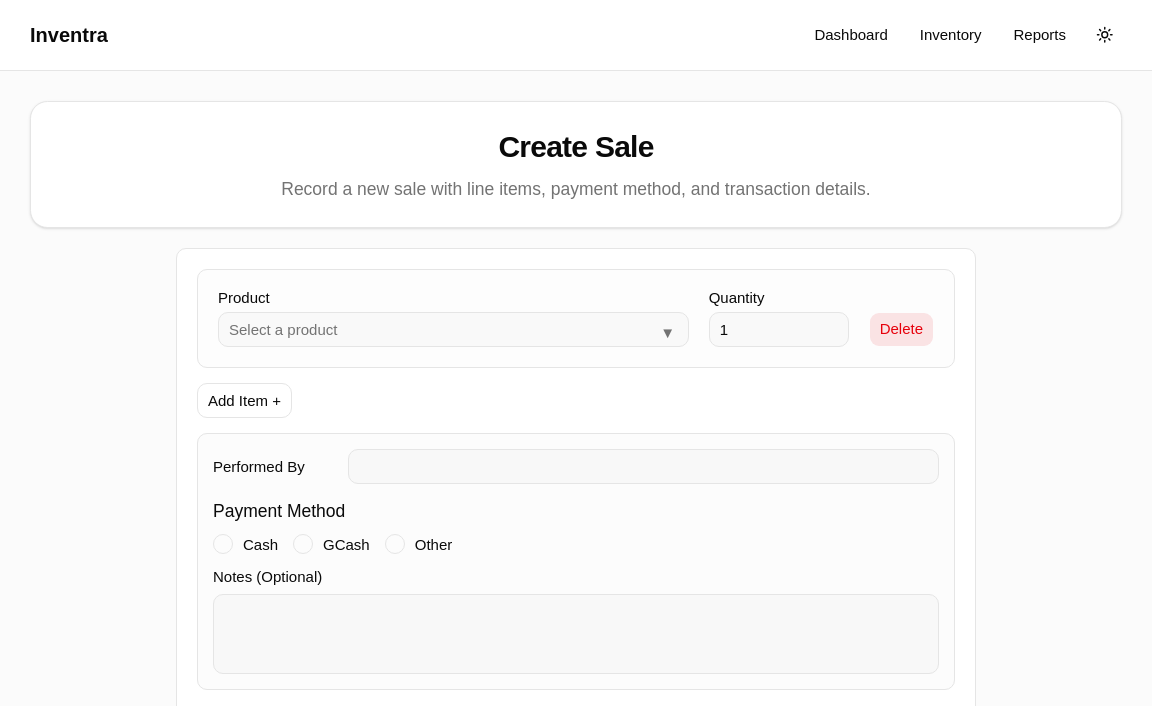
Test: Sales Create Page Tests › shows validation errors when required fields are missing
Clear the number field labelled "Quantity" at coordinates (779, 330), box [709,312,849,348]
(page scrolled)
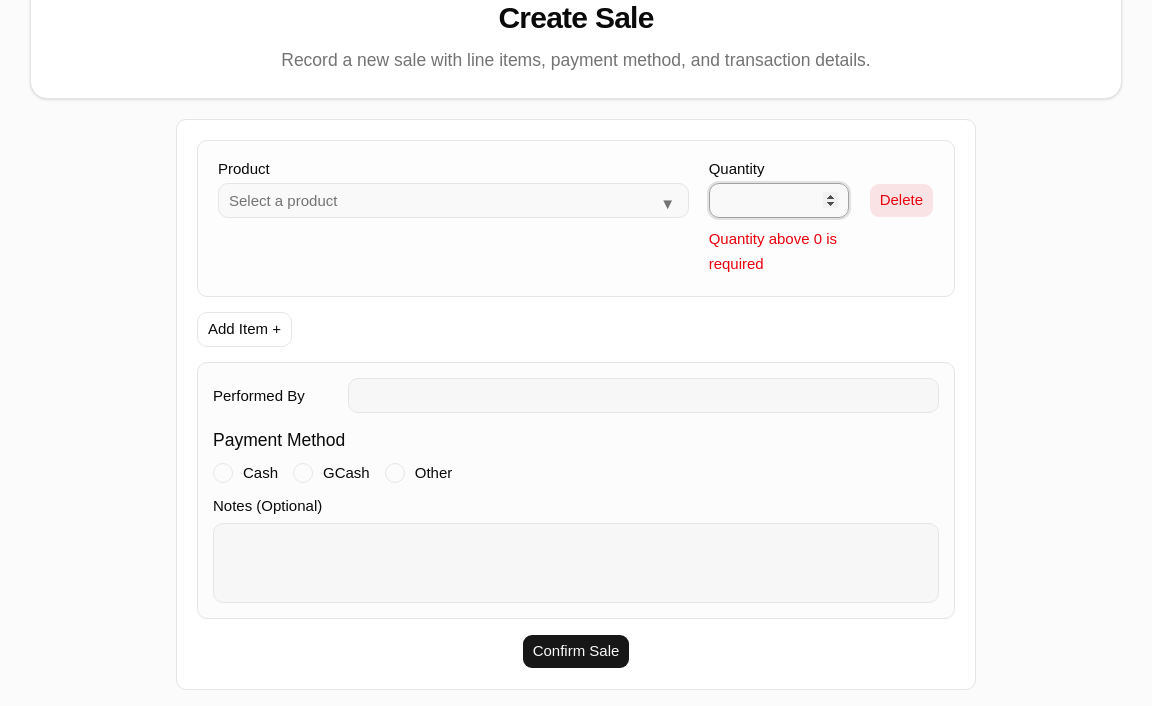
Click the button "Confirm Sale".
click(576, 652)  # box [522,634,630,669]
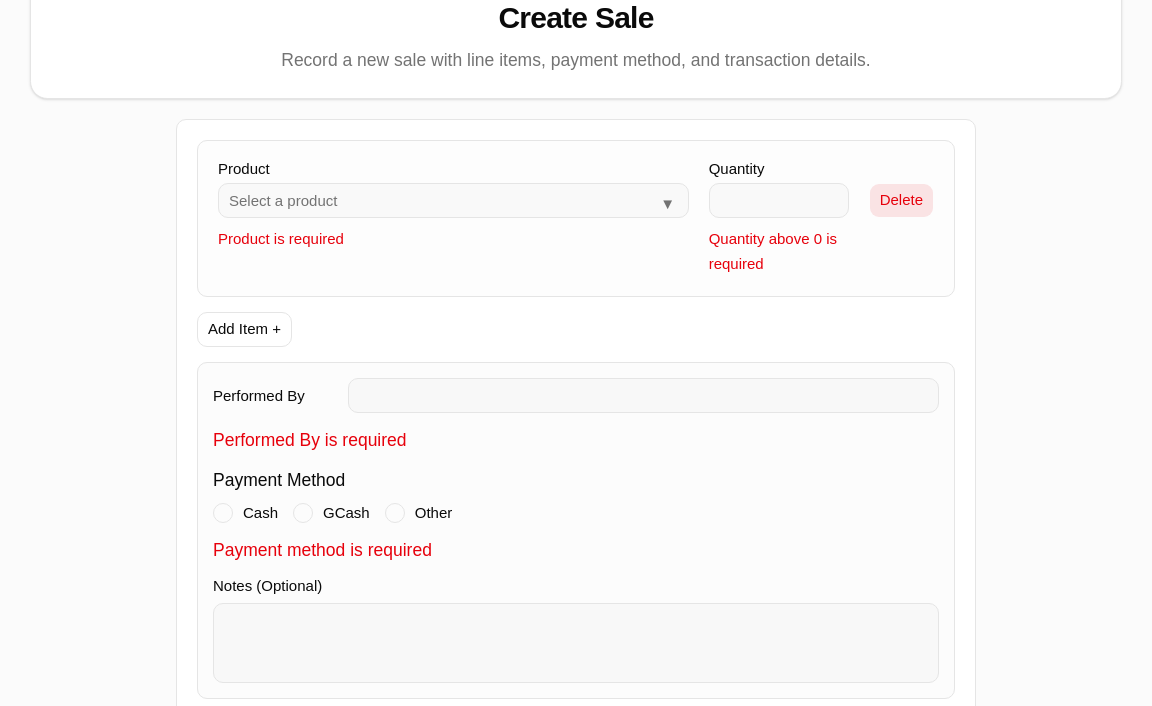
Now the text "Quantity above 0 is required" is shown, box [709,226,849,276]
Now the text "Product is required" is shown, box [218,226,344,251]
Now the text "Performed By is required" is shown, box [213,430,407,450]
